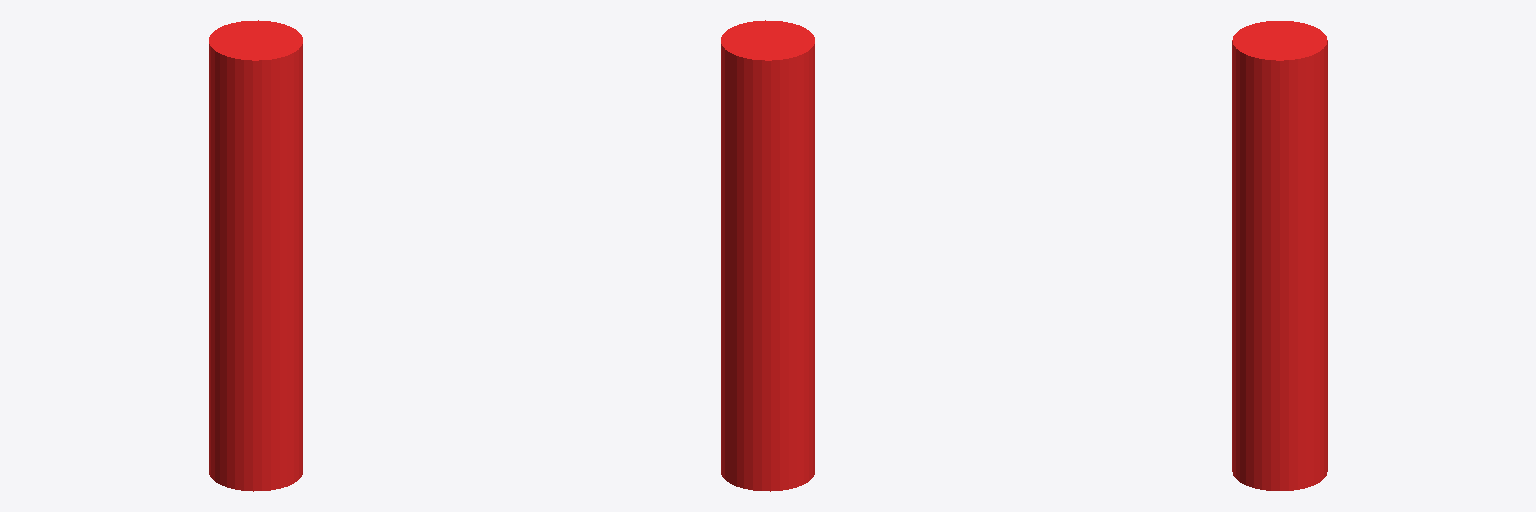
robot.urdf — my_box:
<?xml version="1.0" encoding="UTF-8"?>
<robot name="my_box">
  <link name="box_link">
    <inertial>
      <origin rpy="0 0 0" xyz="0 0 0"/>
      <mass value="1.0"/>
       <inertia ixx="0.0833" ixy="0.0" ixz="0.0" iyy="0.0833" iyz="0.0" izz="0.1667"/>
    </inertial>
    <visual>
      <origin rpy="0 0 0" xyz="0 0 0"/>
      <geometry>
        <cylinder length="0.025" radius="0.0025"/>
      </geometry>
      <material name="red">
        <color rgba="1 0.2 0.2 1"/>
      </material>
    </visual>
    <collision>
      <origin rpy="0 0 0" xyz="0 0 0"/>
      <geometry>
        <cylinder length="0.025" radius="0.0025"/>
      </geometry>
    </collision>
  </link>
  <gazebo reference="box_link">
    <material>Gazebo/Green</material>
  </gazebo>
</robot>

--- Facts derived from the render (not from the file) ---
The picture shows the robot from 3 angles, left to right: view 1: azimuth 30°, elevation 25°; view 2: azimuth 150°, elevation 25°; view 3: azimuth 270°, elevation 25°; orthographic projection.
Robot: my_box — 1 links, 0 joints (none); root link box_link; default pose: all joints at 0.
Links seen in each view (by area): view 1: box_link; view 2: box_link; view 3: box_link.
Boxes of the visible links, x1=… form: box_link: x1=209, y1=20, x2=302, y2=491; box_link: x1=721, y1=20, x2=814, y2=491; box_link: x1=1232, y1=21, x2=1327, y2=490.
Size in the robot's own frame: 0.005 by 0.005 by 0.025 metres.
Geometry: primitives only (box / cylinder / sphere), no mesh files.